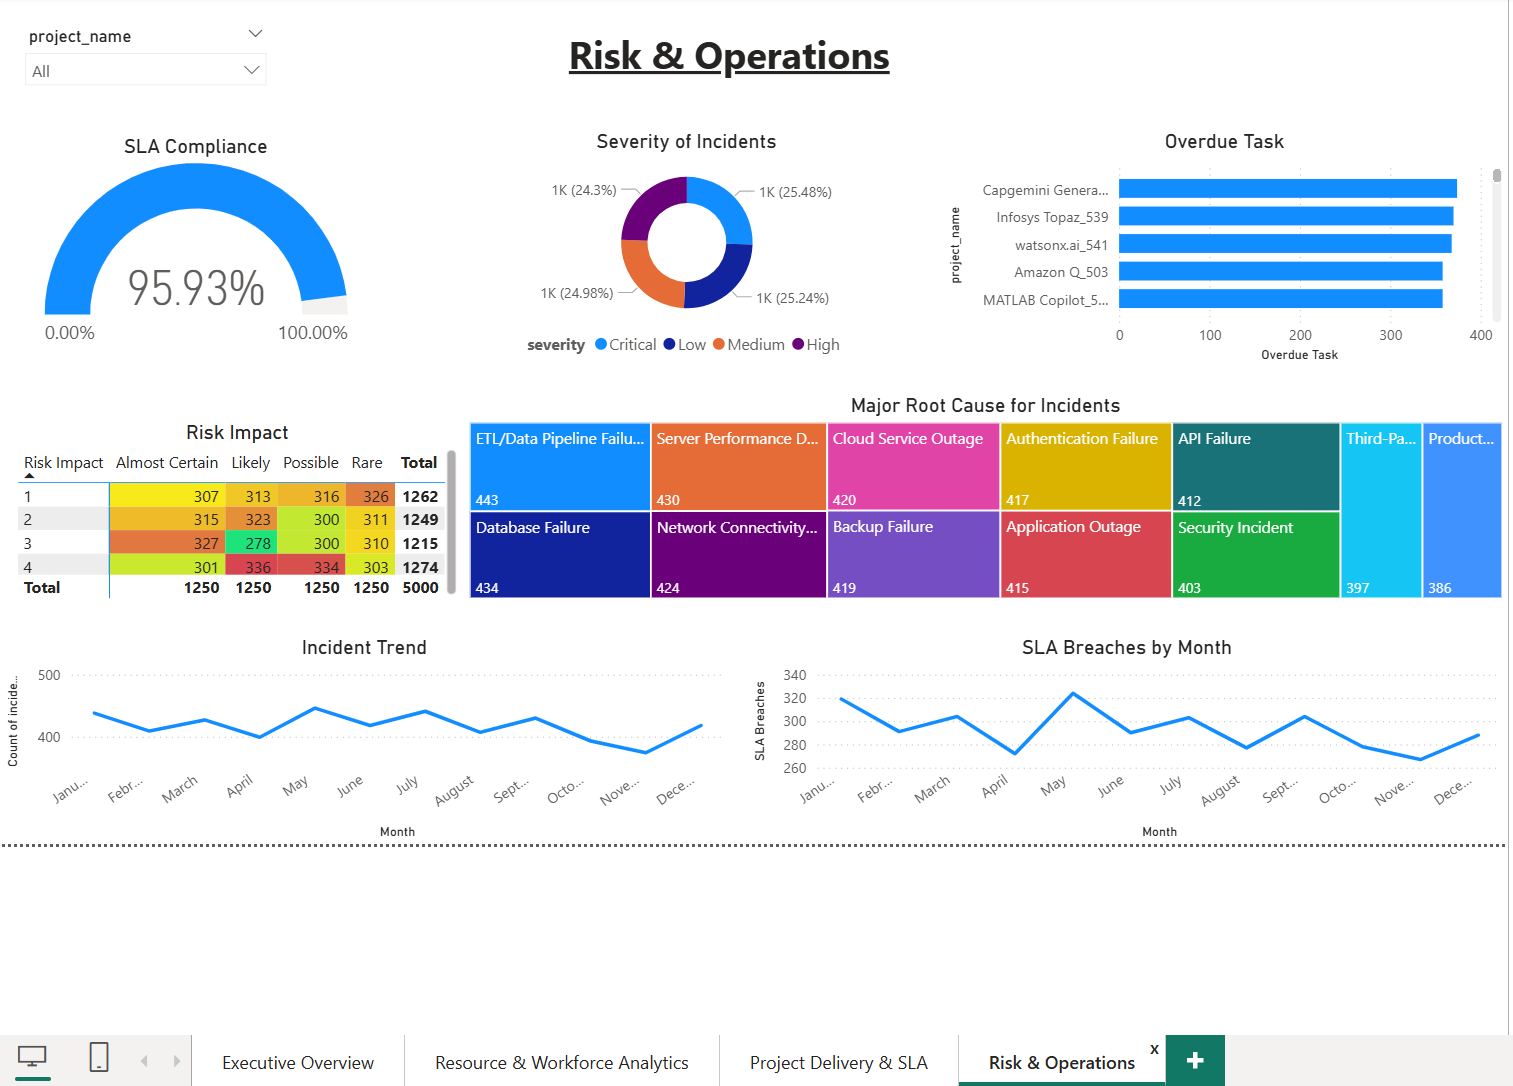

Layout of this report page (visuals, bound fields, positions):
{"tool":"powerbi","page":{"name":"Risk & Operations","canvas":[1280,720],"ordinal":3},"visuals":[{"type":"slicer","fields":{"Values":["enterprise_analytics project.project_name"]},"box":[11,20.7,224.5,92.3],"z":0},{"type":"lineChart","fields":{"Category":["enterprise_analytics incidents.reported_date.Variation.Date Hierarchy.Month","enterprise_analytics incidents.reported_date.Variation.Date Hierarchy.Day"],"Y":["enterprise_analytics incidents.SLA Breaches"]},"box":[634.4,542.5,645.1,177.3],"z":1000},{"type":"donutChart","title":"Severity of Incidents","fields":{"Y":["enterprise_analytics incidents.Total Incidents"],"Category":["enterprise_analytics incidents.severity"]},"box":[393.2,113.3,378.5,201.3],"z":2000},{"type":"lineChart","title":"Incident Trend","fields":{"Category":["enterprise_analytics incidents.reported_date.Variation.Date Hierarchy.Month"],"Y":["CountNonNull(enterprise_analytics incidents.incident_id)"]},"box":[0,542.5,618.5,177.3],"z":3000},{"type":"treemap","title":"Major Root Cause for Incidents","fields":{"Group":["enterprise_analytics incidents.incident_type"],"Values":["CountNonNull(enterprise_analytics incidents.root_cause)"]},"box":[393.2,337.2,886.4,178.6],"z":4000},{"type":"gauge","title":"SLA Compliance","fields":{"Y":["enterprise_analytics incidents.SLA Compliance %"]},"box":[22.7,117.3,286.6,189.3],"z":5000},{"type":"barChart","title":"Overdue Task","fields":{"Category":["enterprise_analytics project.project_name"],"Y":["enterprise_analytics task.Overdue Task"]},"box":[799.7,113.3,479.8,201.3],"z":6000},{"type":"pivotTable","title":"Risk Impact","fields":{"Rows":["enterprise_analytics incidents.Risk Impact"],"Columns":["enterprise_analytics incidents.Likelihood"],"Values":["enterprise_analytics incidents.Risk Count"]},"box":[10.7,359.9,382.5,155.9],"z":7000},{"type":"textbox","box":[478.1,21.1,293.9,63.3],"z":7001}]}

Visuals, with their boxes on the page's 1280x720 design canvas (x1, y1, x2, y2). These are canvas units, not pixel positions in the 1513x1086 screenshot, which may show the page scaled, cropped or inside an application window:
slicer - enterprise_analytics project.project_name: bbox=(11, 21, 236, 113)
lineChart - enterprise_analytics incidents.reported_date.Variation.Date Hierarchy.Month x enterprise_analytics incidents.reported_date.Variation.Date Hierarchy.Day: bbox=(634, 542, 1280, 720)
"Severity of Incidents" donutChart: bbox=(393, 113, 772, 315)
"Incident Trend" lineChart: bbox=(0, 542, 618, 720)
"Major Root Cause for Incidents" treemap: bbox=(393, 337, 1280, 516)
"SLA Compliance" gauge: bbox=(23, 117, 309, 307)
"Overdue Task" barChart: bbox=(800, 113, 1280, 315)
"Risk Impact" pivotTable: bbox=(11, 360, 393, 516)
textbox: bbox=(478, 21, 772, 84)
